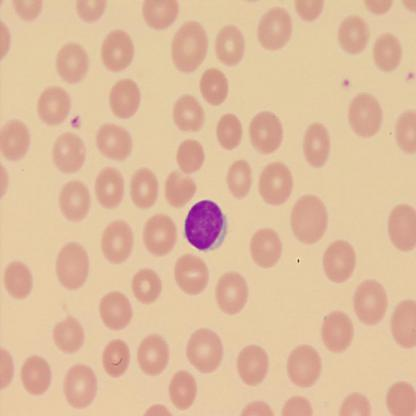Lymphocyte: (184, 199, 227, 253)
